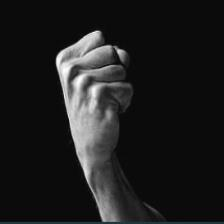five: (54, 26, 136, 178)
